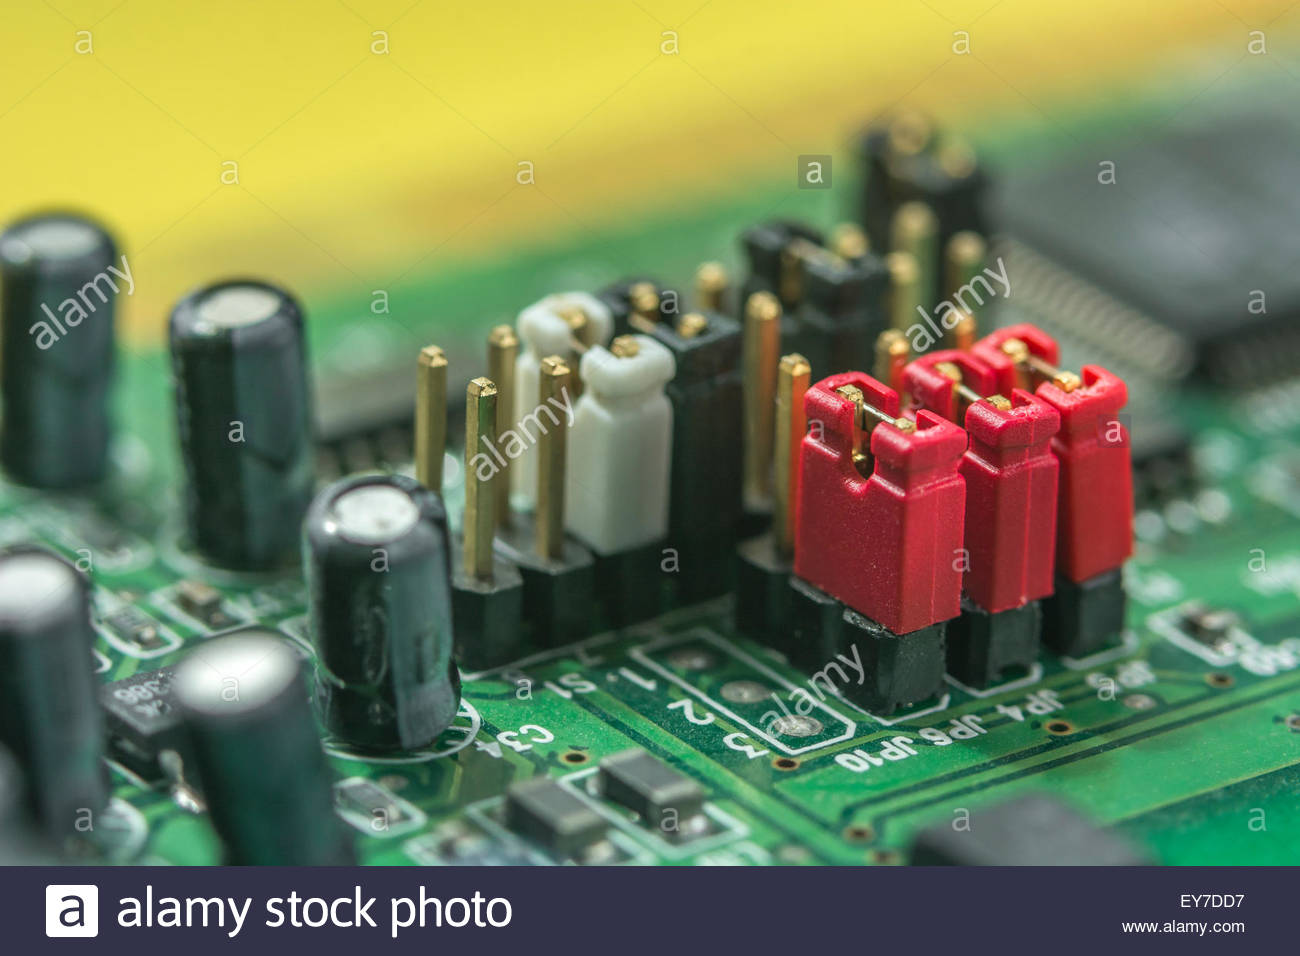capacitor: (301, 468, 464, 750), (175, 629, 355, 867), (168, 280, 311, 566), (2, 210, 118, 489), (1, 545, 112, 828)
